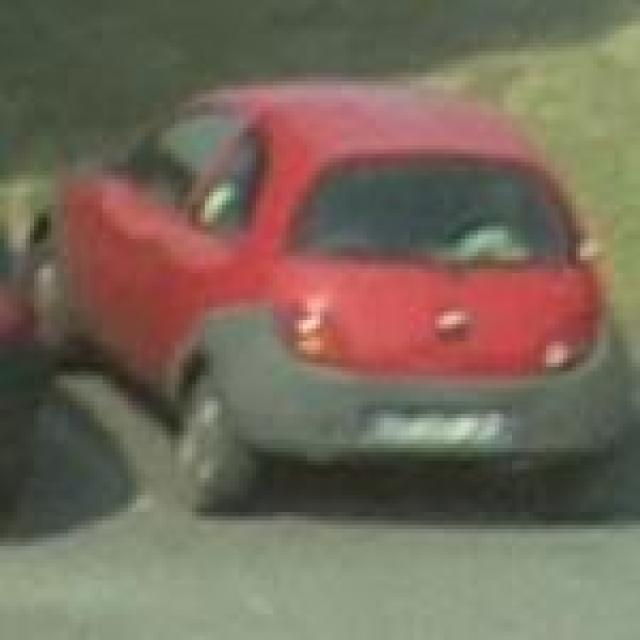cars-sUYr: (29, 56, 640, 541)
